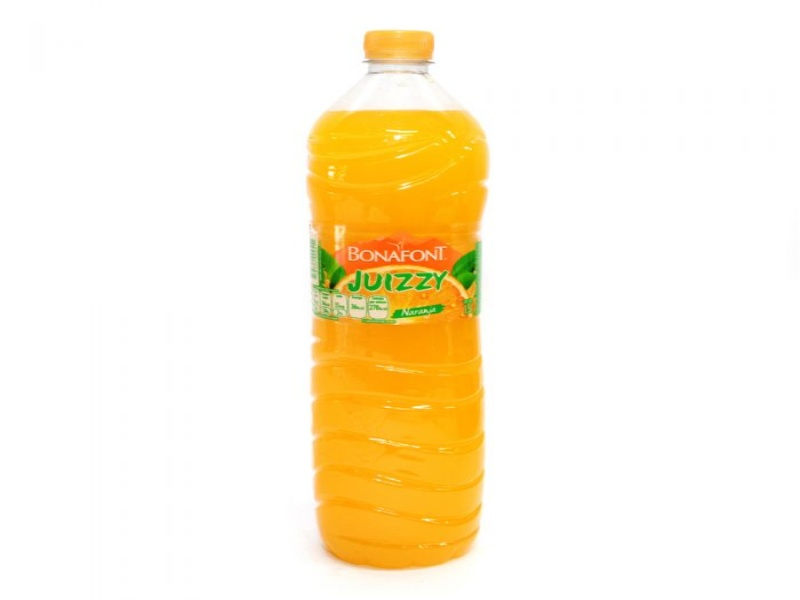Jugo de naranja: (308, 28, 490, 571)
